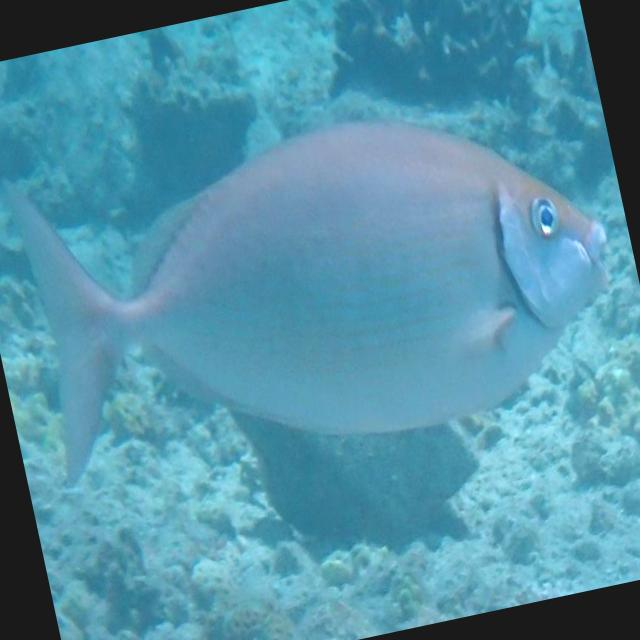Sokar Baligi: (0, 59, 640, 516)
